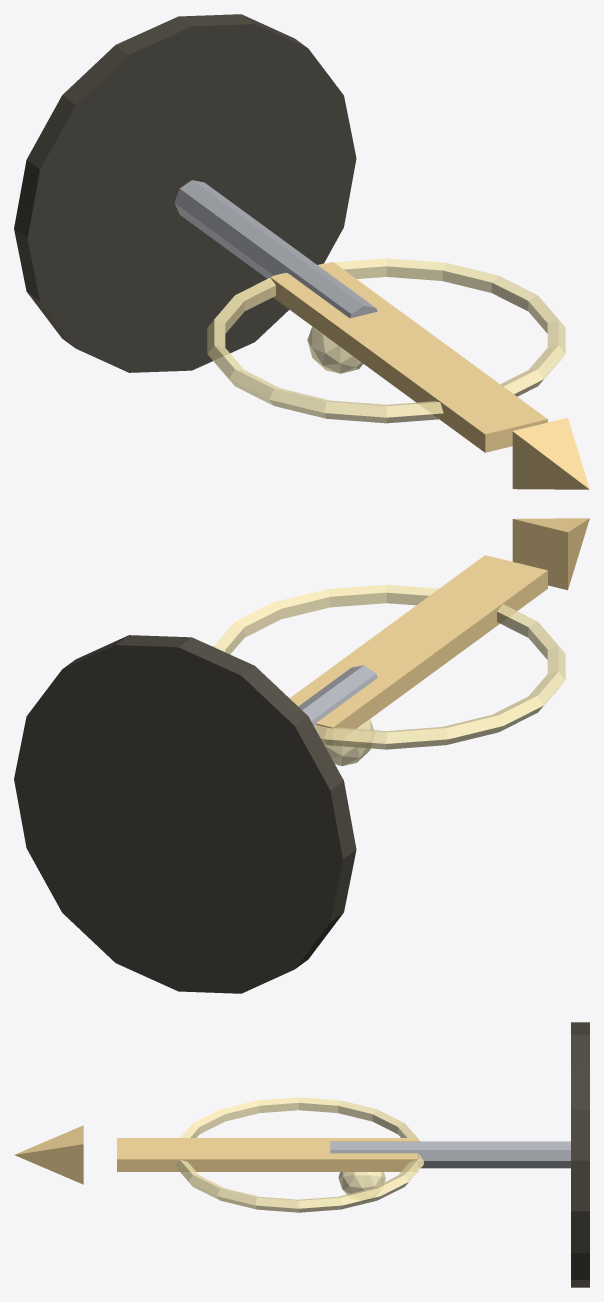
Rendered from 04_high_tier_magic_weapon_aura.glb.
The picture shows the model from 3 angles, top to bottom: view 1: azimuth 30°, elevation 25°; view 2: azimuth 150°, elevation 25°; view 3: azimuth 270°, elevation 25°; orthographic projection. The views are drawn at different scales.
Parts seen in each view (by area): view 1: weapon_display_base, magic_blade_core, weapon_enchant_orbit, weapon_grip, magic_blade_tip, weapon_gem; view 2: weapon_display_base, magic_blade_core, weapon_enchant_orbit, magic_blade_tip, weapon_grip, weapon_gem; view 3: magic_blade_core, weapon_enchant_orbit, weapon_grip, weapon_display_base, magic_blade_tip, weapon_gem.
Part boxes in pixels (box(x1,y1,x2,y2)): weapon_display_base: box(14, 14, 356, 372); magic_blade_core: box(270, 262, 547, 452); weapon_enchant_orbit: box(207, 258, 565, 423); weapon_grip: box(174, 180, 377, 318); magic_blade_tip: box(512, 417, 589, 489); weapon_gem: box(307, 326, 363, 373); weapon_display_base: box(14, 635, 356, 993); magic_blade_core: box(289, 555, 547, 745); weapon_enchant_orbit: box(213, 584, 565, 749); magic_blade_tip: box(512, 518, 589, 590); weapon_grip: box(298, 665, 377, 733); weapon_gem: box(324, 719, 373, 766); magic_blade_core: box(117, 1138, 417, 1171); weapon_enchant_orbit: box(175, 1097, 423, 1212); weapon_grip: box(330, 1141, 570, 1168); weapon_display_base: box(571, 1022, 589, 1287); magic_blade_tip: box(14, 1125, 83, 1184); weapon_gem: box(338, 1172, 385, 1194).
Size of the model in its own units: 0.84 by 0.84 by 1.82.
